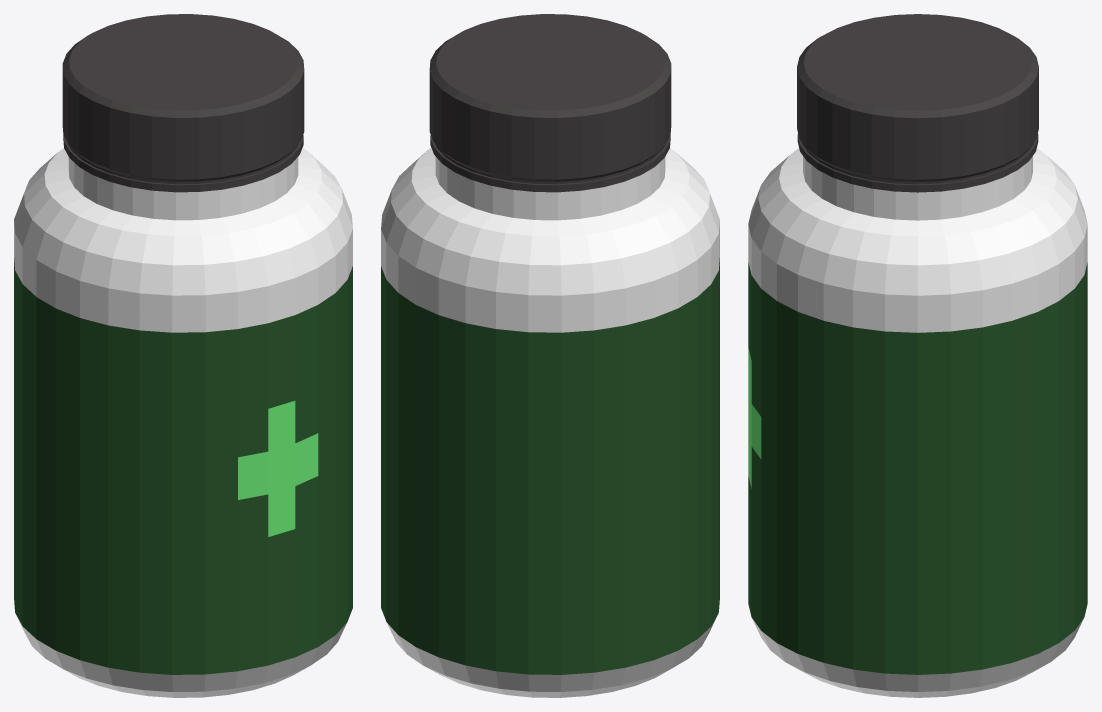
Rendered from Medicine.fbx.
3 views of the same model, side by side, from view 1: azimuth 30°, elevation 25°; view 2: azimuth 150°, elevation 25°; view 3: azimuth 270°, elevation 25° (orthographic).
Visible parts, largest first — view 1: Cylinder; view 2: Cylinder; view 3: Cylinder.
Part boxes in pixels (left/top/right/bottom): Cylinder: left=14, top=14, right=352, bottom=697; Cylinder: left=381, top=14, right=719, bottom=697; Cylinder: left=748, top=14, right=1087, bottom=697.
Bounding box in the file's own units: 0.4 × 0.7499 × 0.4.
1 material, 1 textured.
